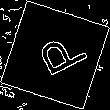P_SW: (24, 27, 86, 83)
